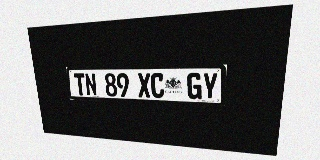8: (104, 73, 117, 97)
9: (116, 73, 130, 97)
C: (150, 73, 164, 98)
G: (187, 73, 202, 99)
N: (84, 73, 97, 96)
T: (73, 73, 86, 96)
X: (137, 73, 151, 98)
Y: (202, 73, 218, 100)
